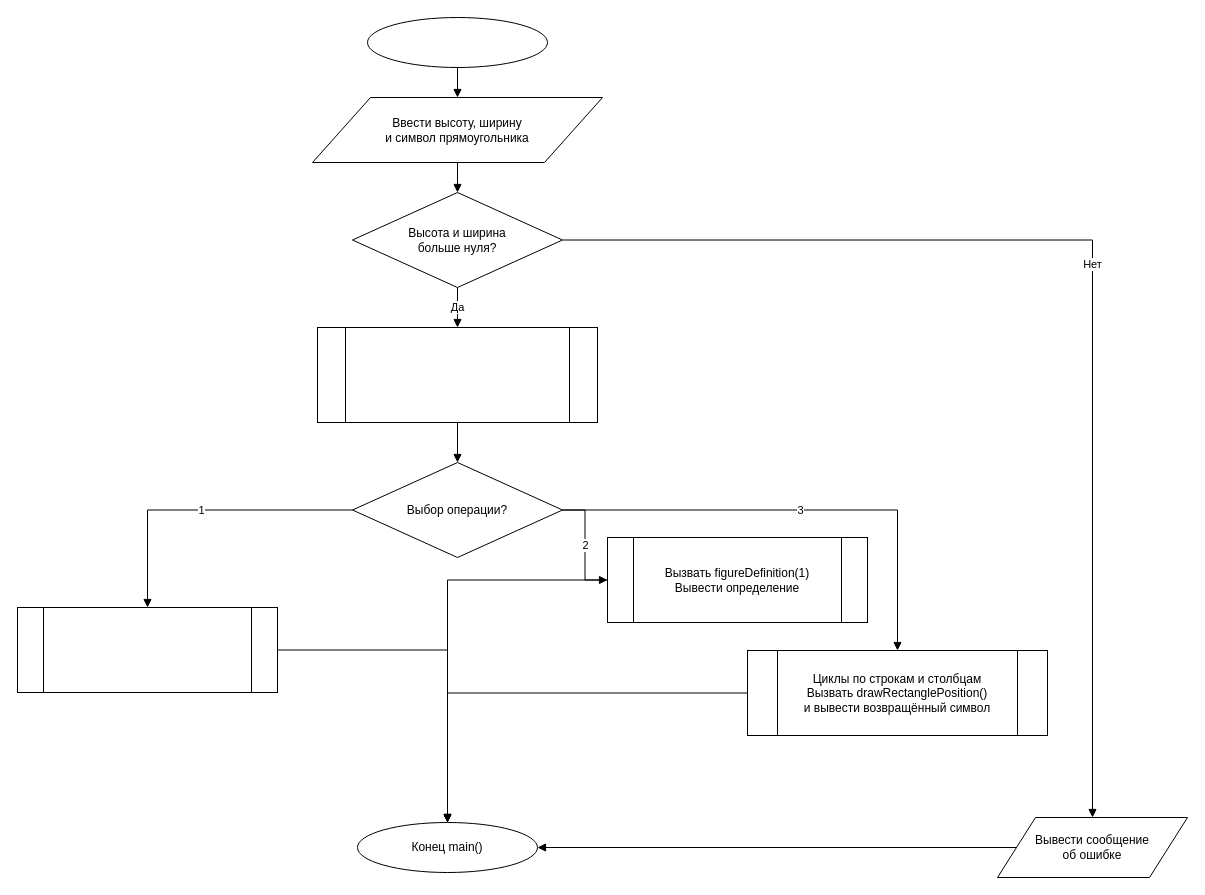
Image size: 1205x895. Some labels were removed from this diagram. The shapes that lost their labels are listed below. From the top down, each one's box as (x1, y1, x2, y2) in pixels, then its label:
(366, 16, 548, 68): Начало main()
(316, 326, 598, 422): Вывести меню: 1 — площадь 2 — определение 3 — рисование
(16, 606, 278, 692): Вызвать rectangleArea(height, width) Сохранить результат и вывести площадь
